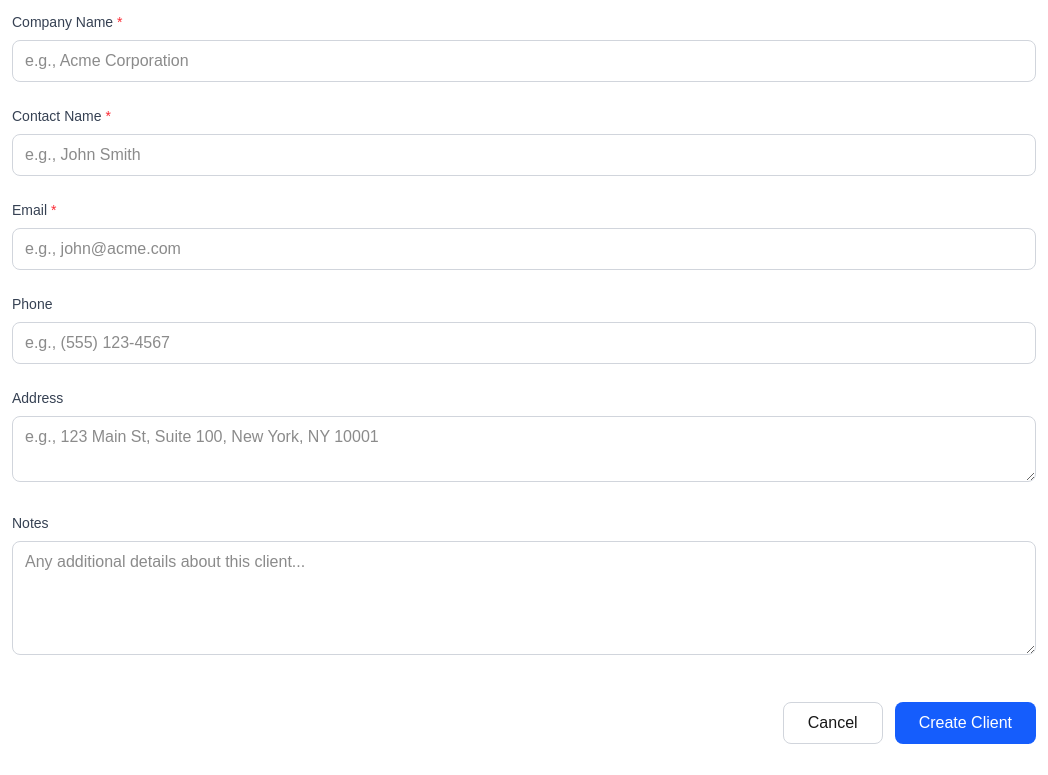
Test: ClientForm › validation › shows validation errors when submitting empty required fields
This screenshot has width=1048, height=775.
Click the button "Create Client": (965,723) [895, 702, 1036, 744]
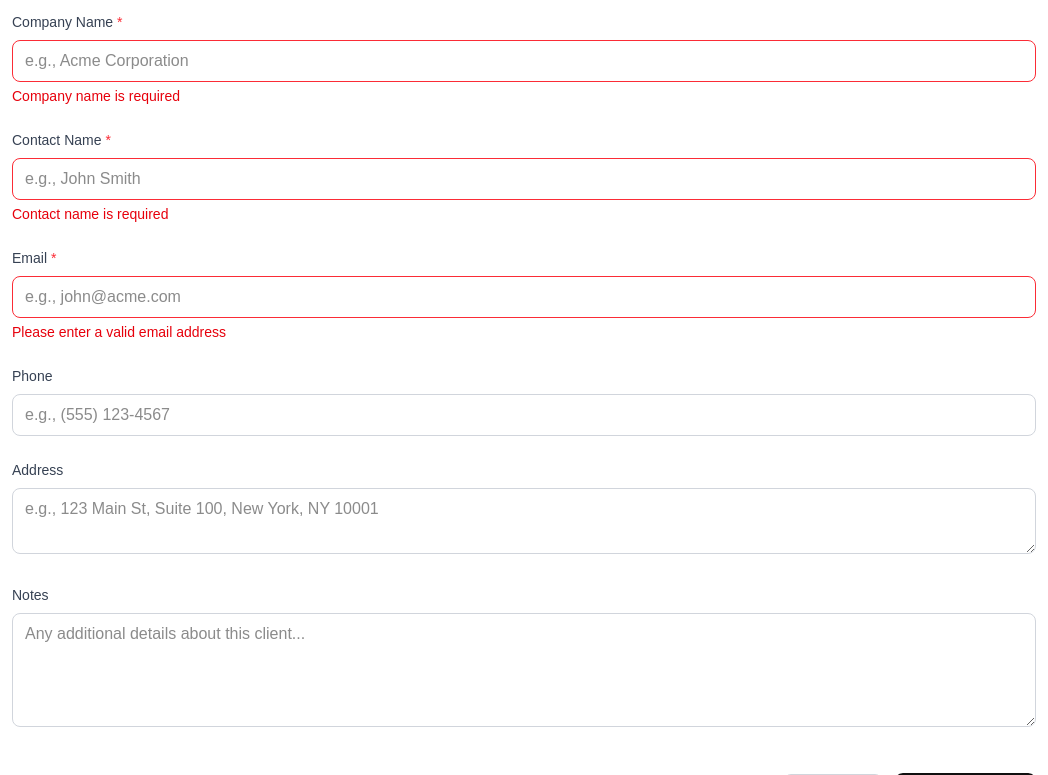
Expected: the text "Company name is required" is shown, [12, 88, 180, 104]
Expected: the text "Contact name is required" is shown, [12, 206, 168, 222]
Expected: the text "Please enter a valid email address" is shown, [12, 324, 226, 340]
